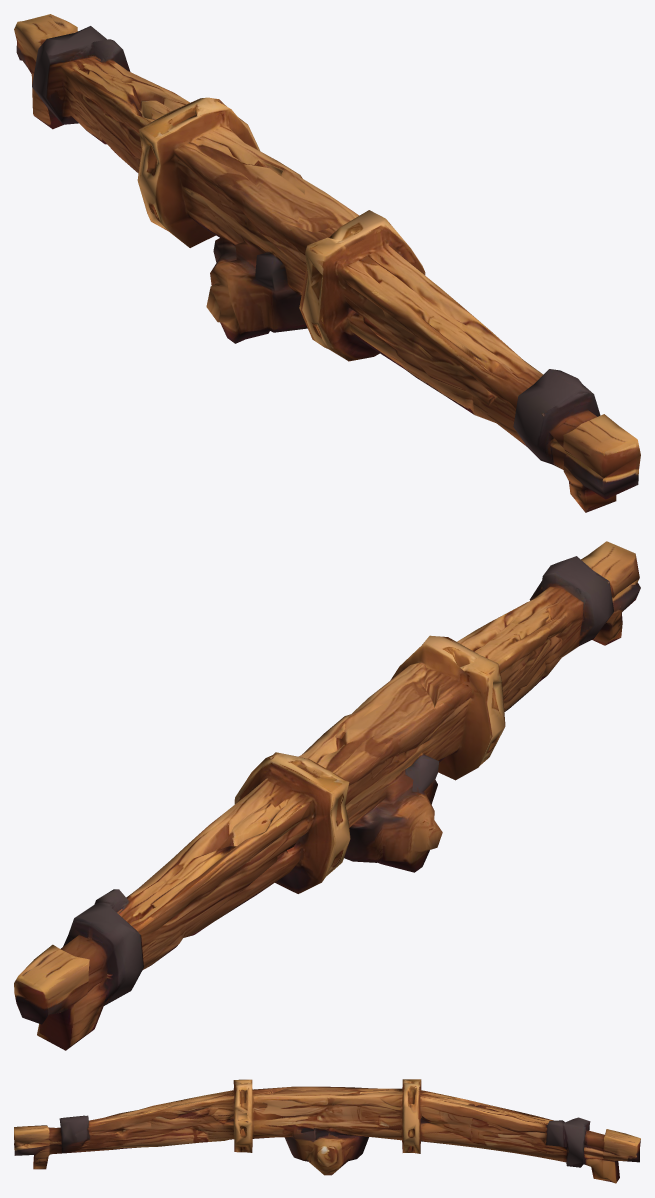
The model's file is item_longbow.glb.
3 views of the same model, one above another, from view 1: azimuth 30°, elevation 25°; view 2: azimuth 150°, elevation 25°; view 3: azimuth 270°, elevation 25° (orthographic). The views are drawn at different scales.
Visible parts, largest first — view 1: tripo_node_1c3f575b-8b99-4a56-aba2-85c495eabcae; view 2: tripo_node_1c3f575b-8b99-4a56-aba2-85c495eabcae; view 3: tripo_node_1c3f575b-8b99-4a56-aba2-85c495eabcae.
Part boxes in pixels (x1,y1,x2,y2): tripo_node_1c3f575b-8b99-4a56-aba2-85c495eabcae: (14,14,640,512); tripo_node_1c3f575b-8b99-4a56-aba2-85c495eabcae: (14,541,640,1050); tripo_node_1c3f575b-8b99-4a56-aba2-85c495eabcae: (14,1079,640,1183).
Size of the model in its own units: 0.1374 by 0.155 by 1.
Materials: 1 (1 with a texture image).
